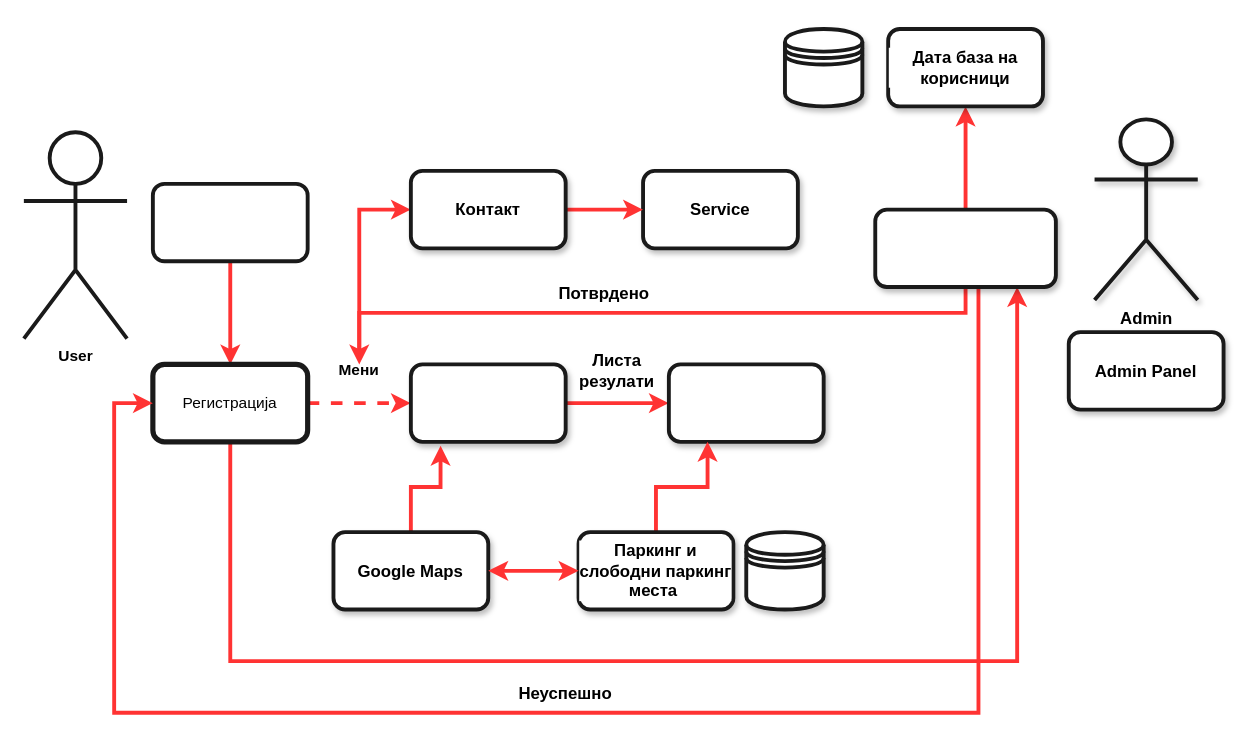
The diagram is 1255 pixels wide and 747 high, and some of its shapes have lost their labels. Each missing label, with the centre of its shape:
Mobile UI: (229,222)
Мапа на слободни паркинг места: (489,404)
Потврда на секој член (верификација): (966,249)
Филтер за резултати: (747,404)
